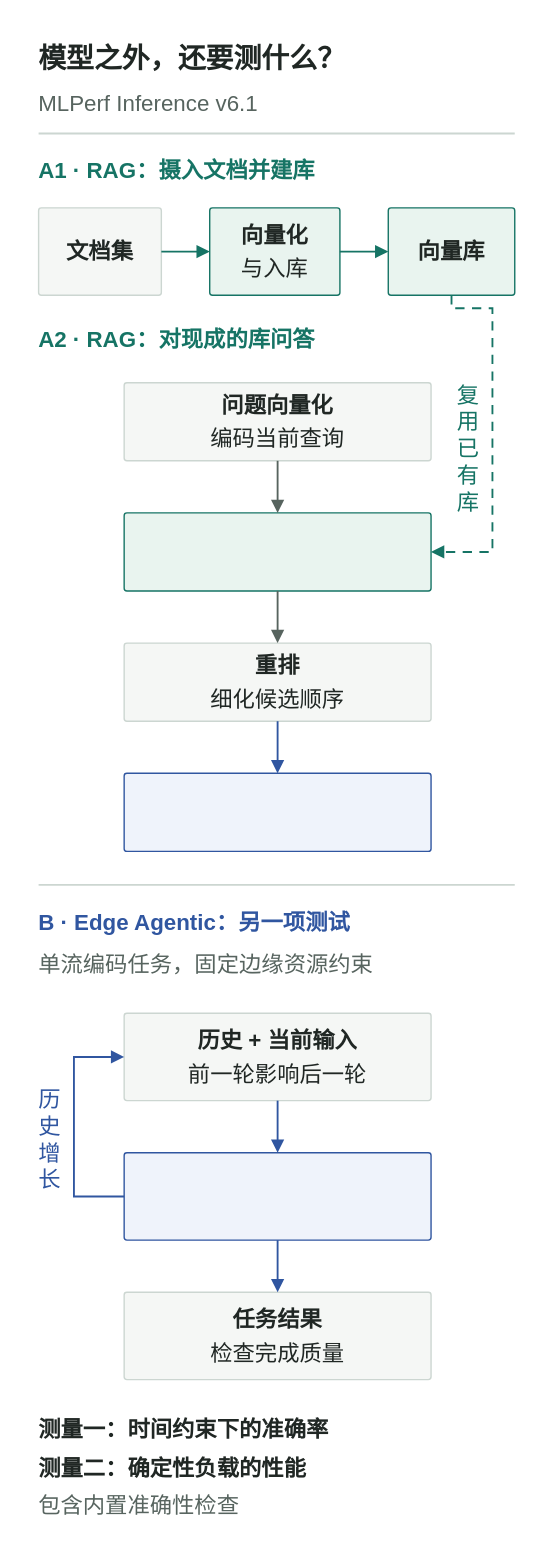
This 552x1557 diagram has some shape labels left out. Here are the shapes that lost their labels. From the top down, the box of each, then its label:
(123, 512, 431, 591): 检索 找候选段落
(123, 772, 431, 852): LLM 依据材料推理与回答
(123, 1152, 431, 1240): 推理与交互 收集证据，继续判断
